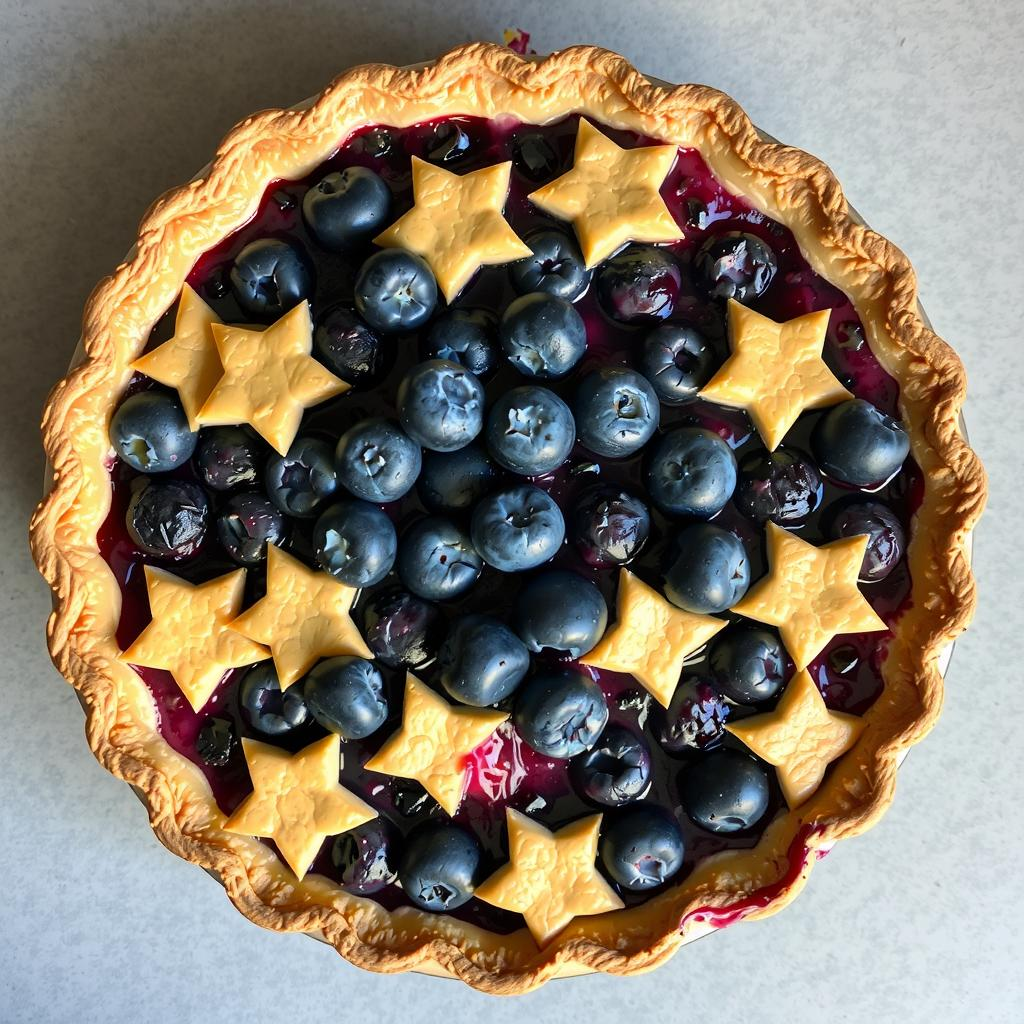pie: (14, 36, 986, 1007)
